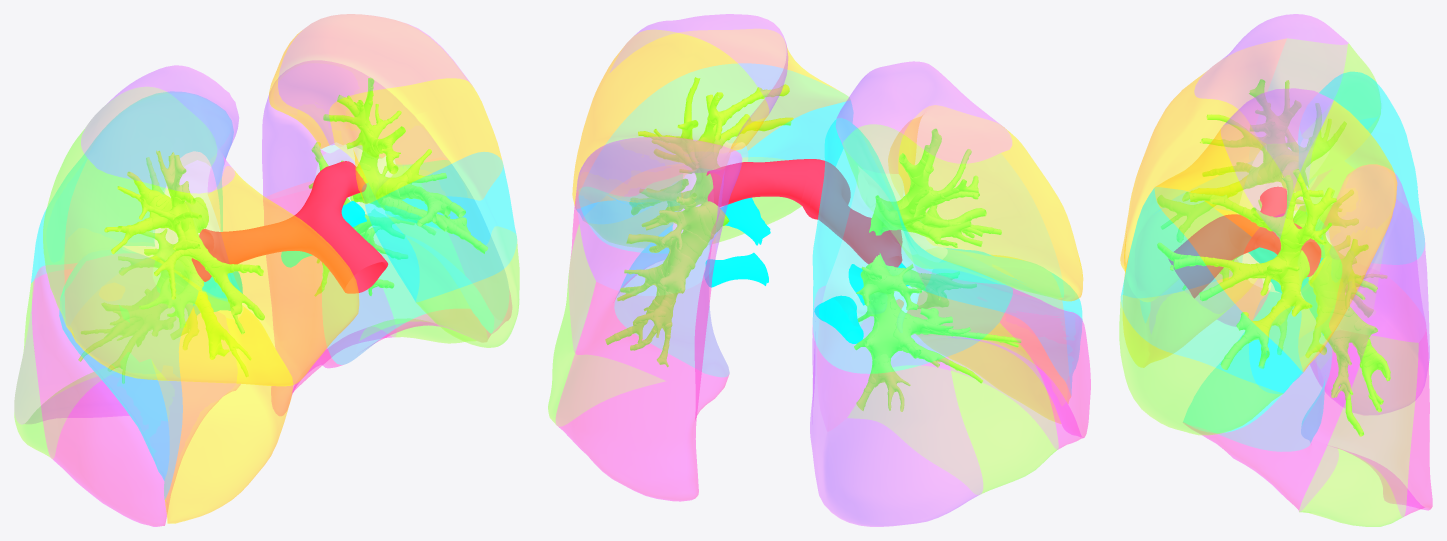
The model's file is lunge-female.glb.
3 views of the same model, side by side, from view 1: azimuth 30°, elevation 25°; view 2: azimuth 150°, elevation 25°; view 3: azimuth 270°, elevation 25° (orthographic). The views are drawn at different scales.
Parts seen in each view (by area): view 1: 0:29:VH_F_right_anterior_bronchopulmonary_segm, 0:18:VH_F_right_anterior_basal_bronchopulmonary_segment, 0:26:VH_F_right_medial_bronchopulmonary_segment, 0:25:VH_F_right_lateral_bronchopulmonary_segmennt, 0:22:VH_F_right_superior_bronchopulmonary_segment, 0:9:VH_F_left_anterior_bronchopulmonary_segment, 0:13:VH_F_lingula_superior_bronchopulmonary_segment, 0:30:VH_F_right_apical_bronchopulmonary_segment, 0:11:VH_F_left_posterior_bronchopulmonary_segment, 0:6:VH_F_left_superior_bronchopulmonary_segment, 0:10:VH_F_left_apical_bronchopulmonary_segment, 0:12:VH_F_lingula_inferior_bronchopulmonary_segment (+26 smaller); view 2: 0:22:VH_F_right_superior_bronchopulmonary_segment, 0:5:VH_F_left_posterior_basal_bronchopulmonary_segment, 0:21:VH_F_right_posterior_basal_bronchopulmonary_segment, 0:31:VH_F_right_posterior_bronchopulmonary_segment, 0:6:VH_F_left_superior_bronchopulmonary_segment, 0:19:VH_F_right_lateral_basal_bronchopulmonary_segment, 0:11:VH_F_left_posterior_bronchopulmonary_segment, 0:29:VH_F_right_anterior_bronchopulmonary_segm, 0:9:VH_F_left_anterior_bronchopulmonary_segment, 0:18:VH_F_right_anterior_basal_bronchopulmonary_segment, 0:13:VH_F_lingula_superior_bronchopulmonary_segment, 0:30:VH_F_right_apical_bronchopulmonary_segment (+33 smaller); view 3: 0:9:VH_F_left_anterior_bronchopulmonary_segment, 0:13:VH_F_lingula_superior_bronchopulmonary_segment, 0:12:VH_F_lingula_inferior_bronchopulmonary_segment, 0:5:VH_F_left_posterior_basal_bronchopulmonary_segment, 0:3:VH_F_left_lateral_basal_bronchopulmonary_segment, 0:4:VH_F_left_medial_basal_bronchopulmonary_segment, 0:29:VH_F_right_anterior_bronchopulmonary_segm, 0:11:VH_F_left_posterior_bronchopulmonary_segment, 0:6:VH_F_left_superior_bronchopulmonary_segment, 0:2:VH_F_left_anterior_basal_bronchopulmonary_segment, 0:10:VH_F_left_apical_bronchopulmonary_segment, 0:21:VH_F_right_posterior_basal_bronchopulmonary_segment (+27 smaller).
Part boxes in pixels (box(x1,y1,x2,y2)): 0:29:VH_F_right_anterior_bronchopulmonary_segm: box(64, 159, 359, 386); 0:18:VH_F_right_anterior_basal_bronchopulmonary_segment: box(32, 266, 234, 526); 0:26:VH_F_right_medial_bronchopulmonary_segment: box(158, 292, 293, 523); 0:25:VH_F_right_lateral_bronchopulmonary_segmennt: box(59, 247, 197, 499); 0:22:VH_F_right_superior_bronchopulmonary_segment: box(31, 91, 233, 282); 0:9:VH_F_left_anterior_bronchopulmonary_segment: box(329, 78, 502, 204); 0:13:VH_F_lingula_superior_bronchopulmonary_segment: box(362, 152, 516, 301); 0:30:VH_F_right_apical_bronchopulmonary_segment: box(81, 65, 238, 193); 0:11:VH_F_left_posterior_bronchopulmonary_segment: box(269, 14, 472, 148); 0:6:VH_F_left_superior_bronchopulmonary_segment: box(262, 60, 447, 198); 0:10:VH_F_left_apical_bronchopulmonary_segment: box(278, 14, 471, 144); 0:12:VH_F_lingula_inferior_bronchopulmonary_segment: box(386, 214, 519, 347); 0:22:VH_F_right_superior_bronchopulmonary_segment: box(812, 118, 1012, 373); 0:5:VH_F_left_posterior_basal_bronchopulmonary_segment: box(556, 215, 729, 501); 0:21:VH_F_right_posterior_basal_bronchopulmonary_segment: box(810, 286, 982, 526); 0:31:VH_F_right_posterior_bronchopulmonary_segment: box(843, 124, 1063, 298); 0:6:VH_F_left_superior_bronchopulmonary_segment: box(576, 136, 742, 295); 0:19:VH_F_right_lateral_basal_bronchopulmonary_segment: box(848, 323, 1058, 494); 0:11:VH_F_left_posterior_bronchopulmonary_segment: box(579, 30, 768, 166); 0:29:VH_F_right_anterior_bronchopulmonary_segm: box(888, 105, 1083, 301); 0:9:VH_F_left_anterior_bronchopulmonary_segment: box(572, 29, 848, 205); 0:18:VH_F_right_anterior_basal_bronchopulmonary_segment: box(891, 266, 1090, 449); 0:13:VH_F_lingula_superior_bronchopulmonary_segment: box(576, 64, 853, 218); 0:30:VH_F_right_apical_bronchopulmonary_segment: box(836, 61, 1011, 173); 0:9:VH_F_left_anterior_bronchopulmonary_segment: box(1154, 125, 1361, 371); 0:13:VH_F_lingula_superior_bronchopulmonary_segment: box(1121, 187, 1303, 393); 0:12:VH_F_lingula_inferior_bronchopulmonary_segment: box(1119, 277, 1282, 435); 0:5:VH_F_left_posterior_basal_bronchopulmonary_segment: box(1313, 268, 1432, 516); 0:3:VH_F_left_lateral_basal_bronchopulmonary_segment: box(1299, 336, 1418, 526); 0:4:VH_F_left_medial_basal_bronchopulmonary_segment: box(1183, 245, 1341, 451); 0:29:VH_F_right_anterior_bronchopulmonary_segm: box(1120, 39, 1286, 301); 0:11:VH_F_left_posterior_bronchopulmonary_segment: box(1280, 100, 1397, 284); 0:6:VH_F_left_superior_bronchopulmonary_segment: box(1322, 164, 1425, 342); 0:2:VH_F_left_anterior_basal_bronchopulmonary_segment: box(1184, 330, 1368, 511); 0:10:VH_F_left_apical_bronchopulmonary_segment: box(1221, 88, 1333, 238); 0:21:VH_F_right_posterior_basal_bronchopulmonary_segment: box(1320, 213, 1429, 415).
Size of the model in its own units: 0.2511 by 0.223 by 0.1526.
